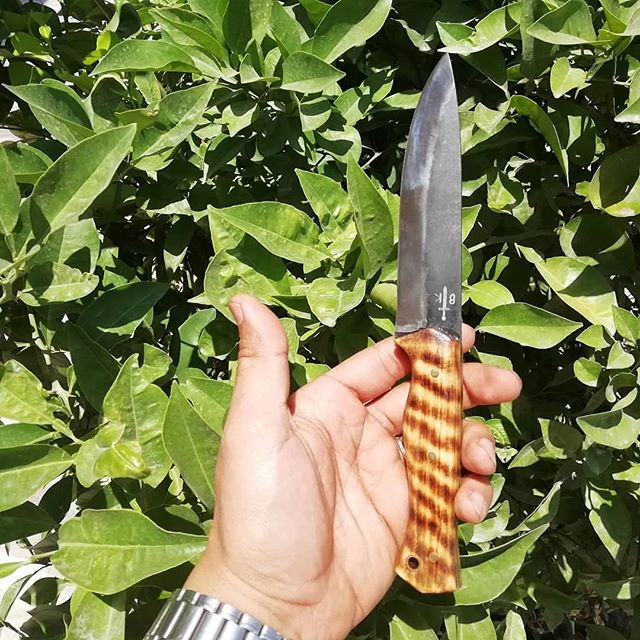knife: (394, 52, 463, 595)
